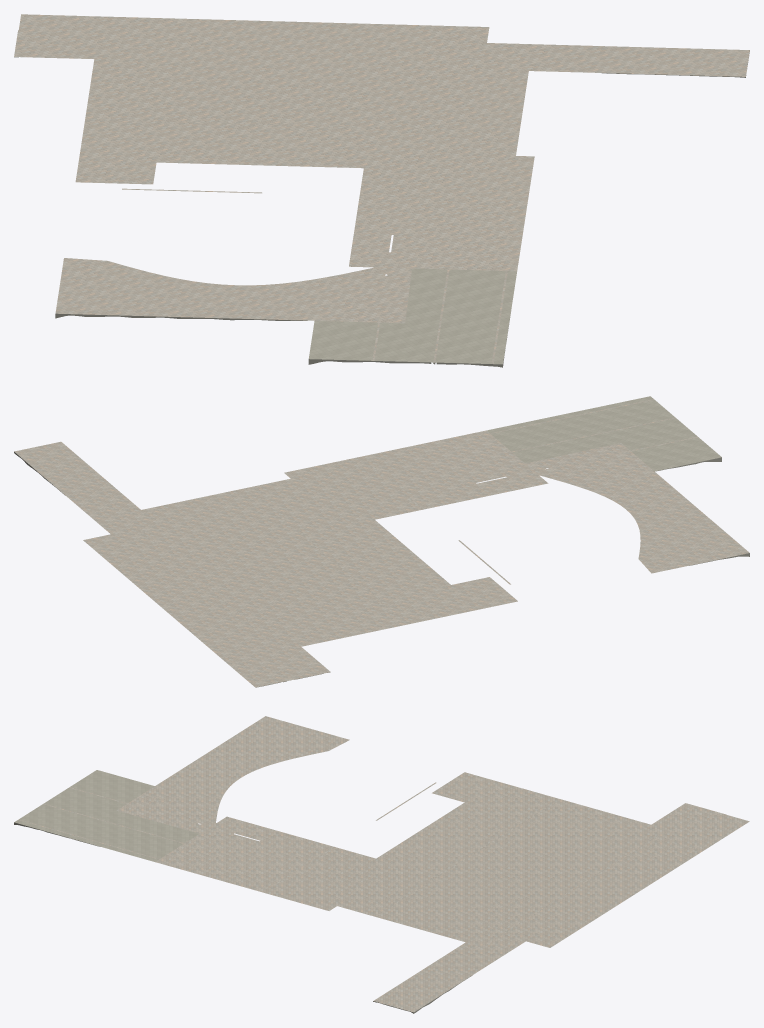
3 renders of one model, top to bottom at view 1: azimuth 30°, elevation 25°; view 2: azimuth 150°, elevation 25°; view 3: azimuth 270°, elevation 25°, orthographic. The views are drawn at different scales.
Parts seen in each view (by area): view 1: snjc-campusPaving, snjc-gatePaving, snjc-courtLine, entry-walkway__edgeClosure; view 2: snjc-campusPaving, snjc-gatePaving, snjc-courtLine; view 3: snjc-campusPaving, snjc-gatePaving, snjc-courtLine.
Boxes of the visible parts, x1,y1,x2,y2 form: snjc-campusPaving: [14, 14, 749, 363]; snjc-gatePaving: [308, 268, 516, 364]; snjc-courtLine: [98, 48, 520, 199]; entry-walkway__edgeClosure: [14, 51, 749, 367]; snjc-campusPaving: [14, 399, 749, 687]; snjc-gatePaving: [487, 396, 721, 471]; snjc-courtLine: [125, 465, 510, 646]; snjc-campusPaving: [18, 716, 749, 1012]; snjc-gatePaving: [14, 770, 199, 861]; snjc-courtLine: [275, 782, 662, 944].
Bounding box in the file's own units: 70.36 × 0.491 × 73.83.
4 materials, 3 textured.
